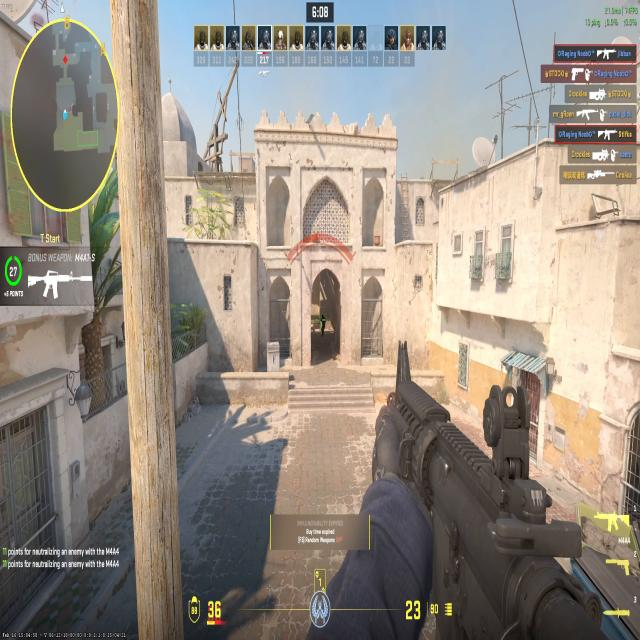player: (317, 312, 328, 338)
